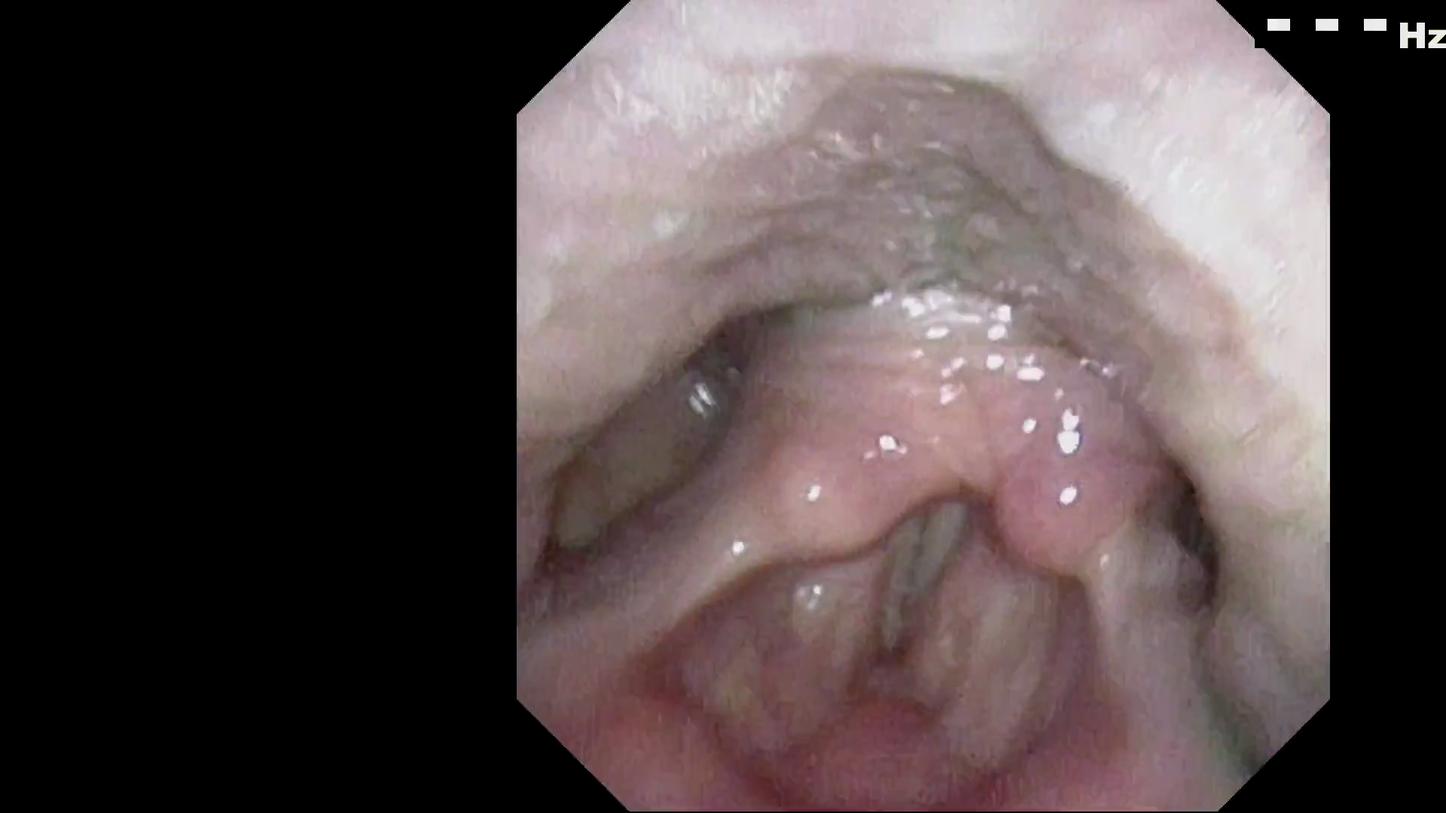epiglottis: (585, 410, 1065, 609)
trachea: (860, 456, 1013, 662)
